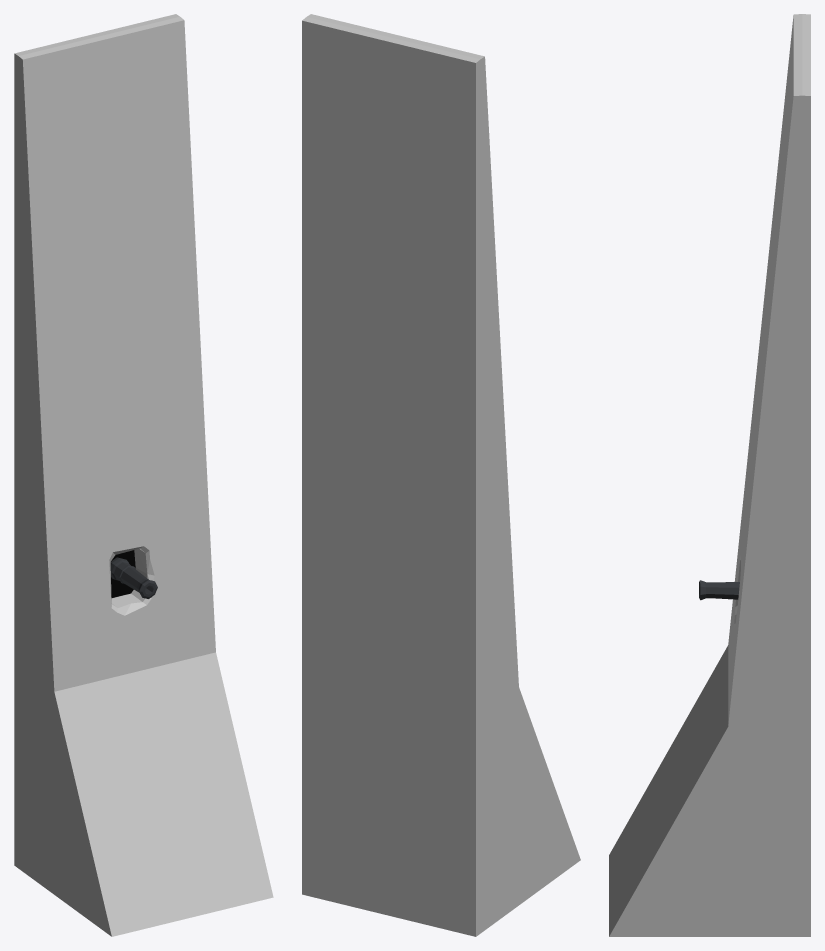
File: SM_Bld_Wall_Fort_L_02_Alt_02.fbx
The picture shows the model from 3 angles, left to right: view 1: azimuth 30°, elevation 25°; view 2: azimuth 150°, elevation 25°; view 3: azimuth 270°, elevation 25°; orthographic projection. The views are drawn at different scales.
Parts seen in each view (by area): view 1: SM_Bld_Wall_Fort_L_02_Alt_02, SM_Bld_Wall_Fort_L_02_Alt_02_Cannon; view 2: SM_Bld_Wall_Fort_L_02_Alt_02; view 3: SM_Bld_Wall_Fort_L_02_Alt_02, SM_Bld_Wall_Fort_L_02_Alt_02_Cannon.
Boxes of the visible parts, x1,y1,x2,y2 form: SM_Bld_Wall_Fort_L_02_Alt_02: [14, 14, 273, 936]; SM_Bld_Wall_Fort_L_02_Alt_02_Cannon: [110, 557, 157, 598]; SM_Bld_Wall_Fort_L_02_Alt_02: [302, 14, 580, 936]; SM_Bld_Wall_Fort_L_02_Alt_02: [609, 14, 810, 936]; SM_Bld_Wall_Fort_L_02_Alt_02_Cannon: [699, 580, 739, 600].
Size of the model in its own units: 500 by 2401 by 522.
